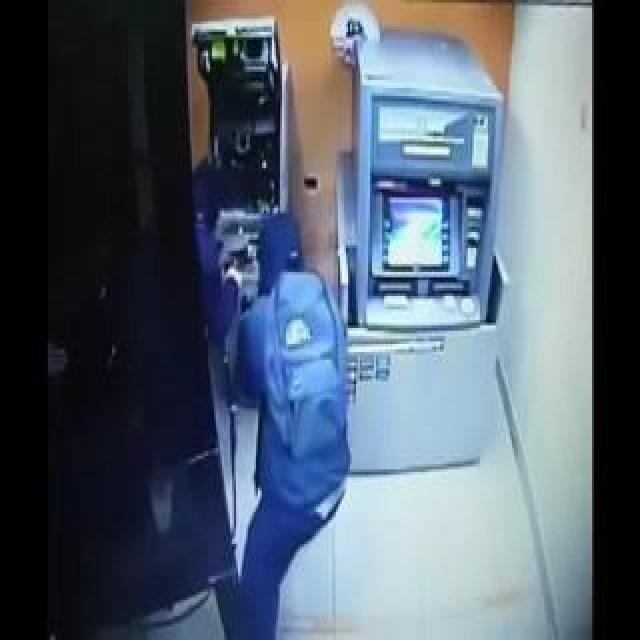thief: (128, 180, 367, 428)
